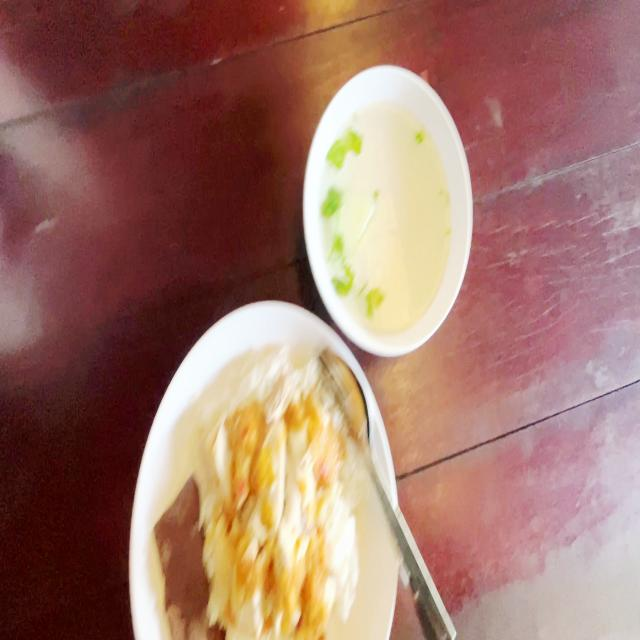boiled_chicken: (209, 403, 338, 628), (154, 466, 219, 602)
